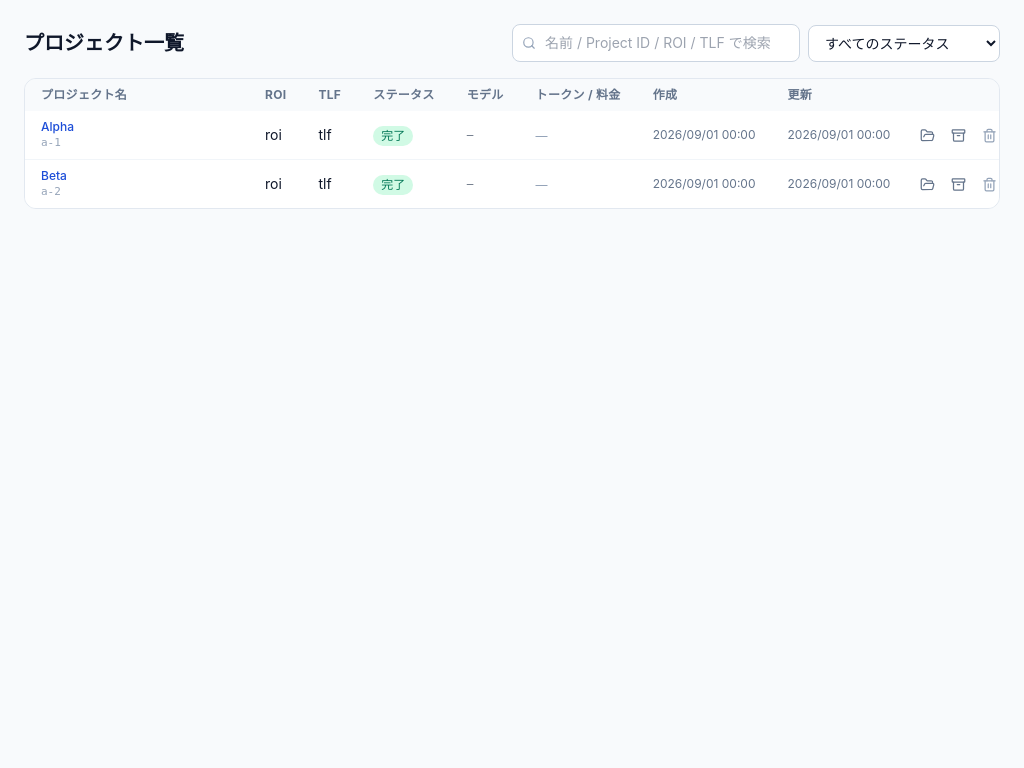
ProjectsPage delete › removes the row before the server answers
The width and height of the screenshot is (1024, 768).
What coordinates should you click on to do the following:
click the button with test id "delete-project"
I would click on:
 (990, 135)
Its box is [976,122,1003,148].
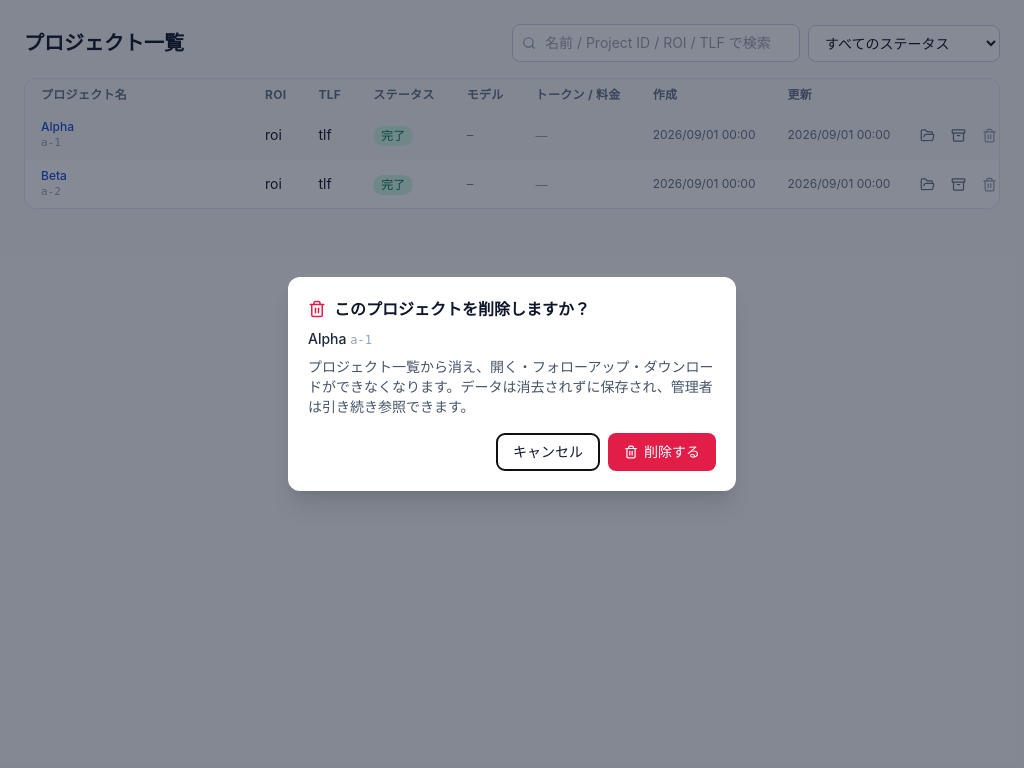
What coordinates should you click on to do the following:
click the button "削除する"
I would click on:
 (662, 452)
Its box is [608,433,716,471].
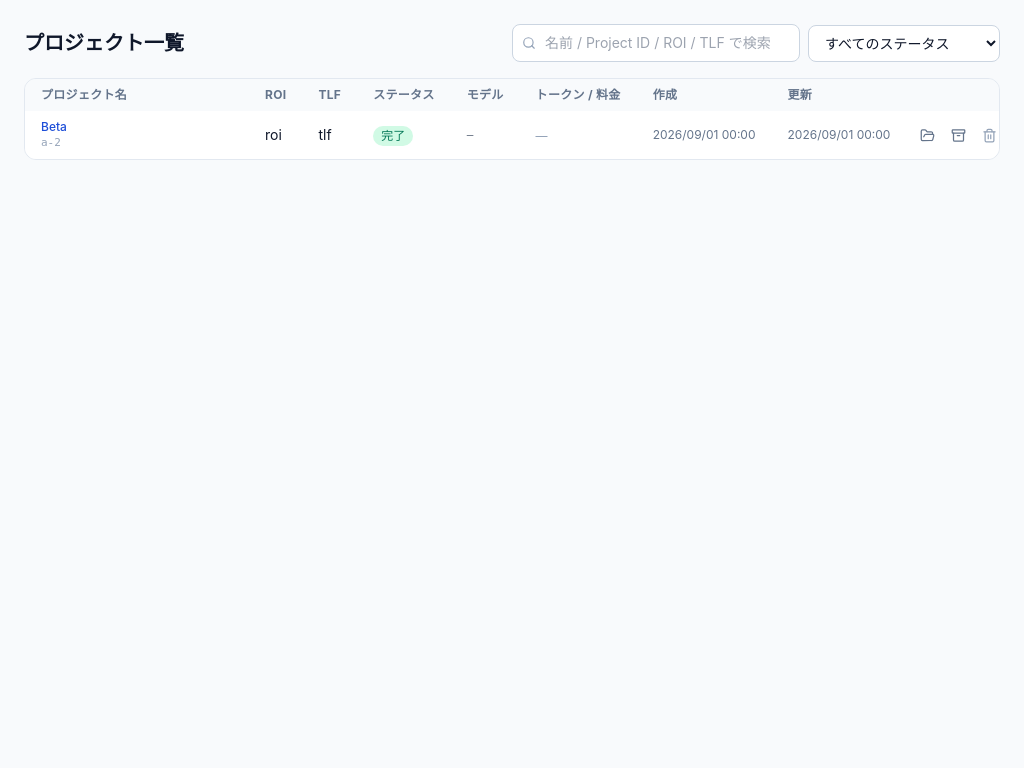
Expected: the dialog is gone
